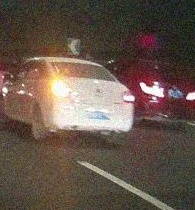L_light: (51, 82, 70, 98)
R_light: (122, 91, 136, 103)
T_light: (79, 63, 90, 66)
night-left: (45, 60, 136, 143)
